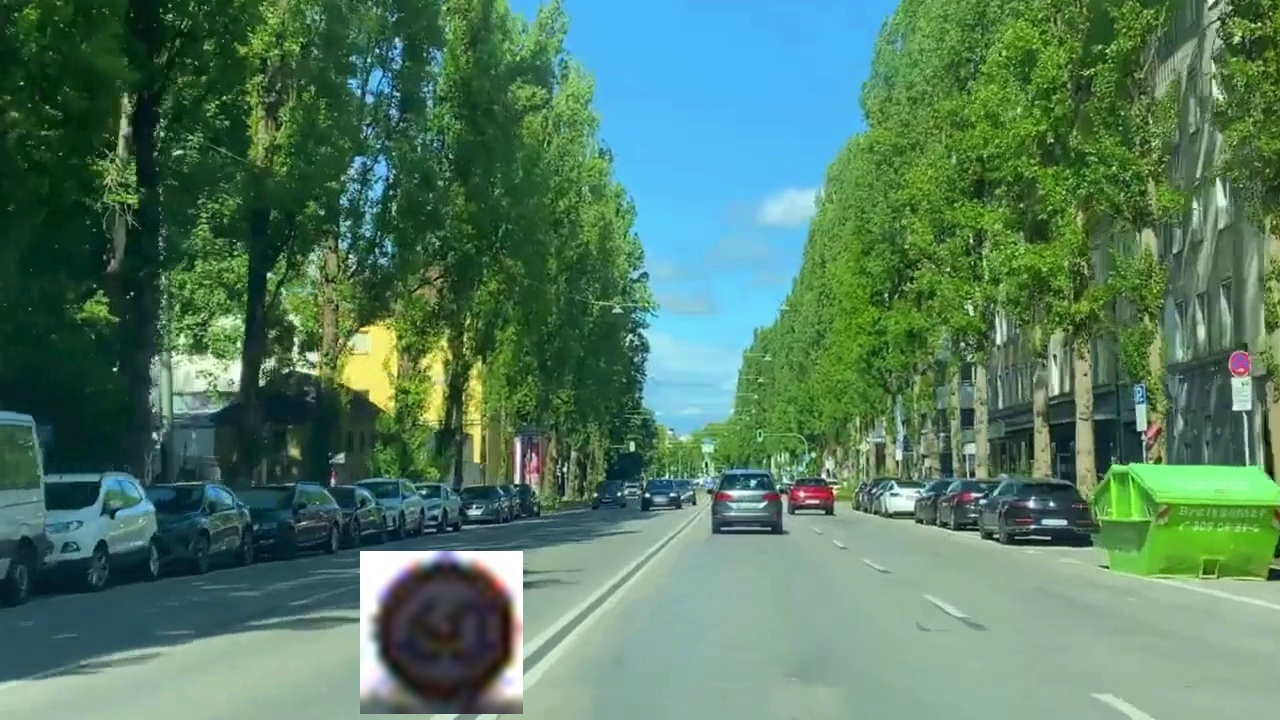Speed 60: (360, 551, 523, 714)
